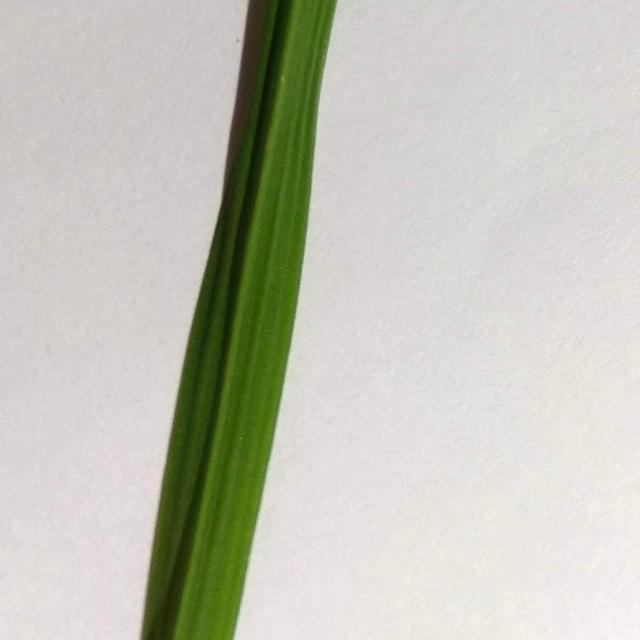Rice_Healthy: (142, 0, 337, 640)
